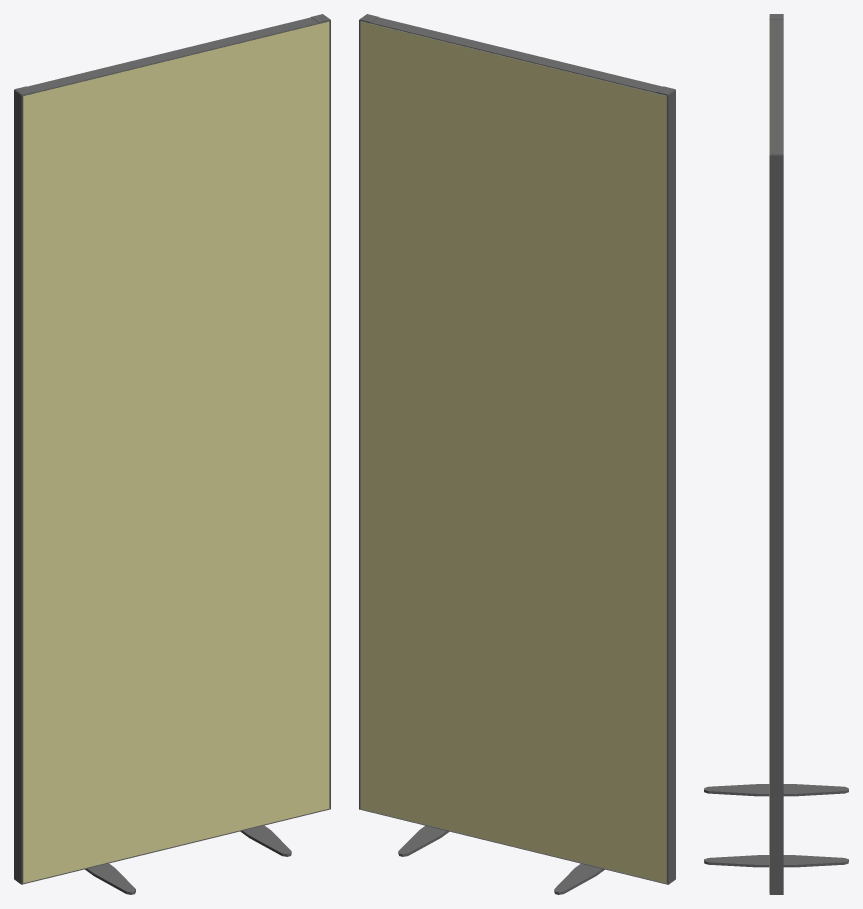
Rendered from 38 Custom Printed Wall Panel.glb.
3 renders of one model, left to right at view 1: azimuth 30°, elevation 25°; view 2: azimuth 150°, elevation 25°; view 3: azimuth 270°, elevation 25°, orthographic. The views are drawn at different scales.
Visible parts, largest first — view 1: Standard 38; view 2: toggle_back_panel, Standard 38; view 3: Standard 38.
Part boxes in pixels (box(x1,y1,x2,y2)): Standard 38: box(14, 14, 330, 894); toggle_back_panel: box(360, 21, 666, 883); Standard 38: box(359, 14, 675, 894); Standard 38: box(704, 14, 848, 894).
Size of the model in its own units: 0.969 by 2.37 by 0.4191.
